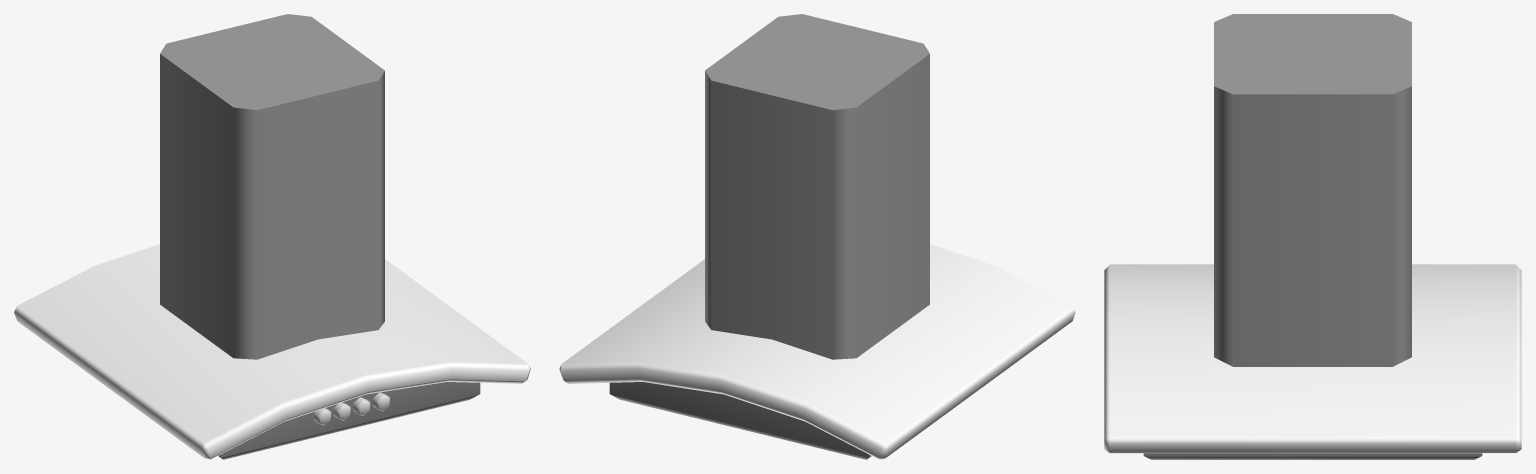
Rendered from kitchen_011.fbx.
The picture shows the model from 3 angles, left to right: view 1: azimuth 30°, elevation 25°; view 2: azimuth 150°, elevation 25°; view 3: azimuth 270°, elevation 25°; orthographic projection. The views are drawn at different scales.
Visible parts, largest first — view 1: kitchen_011; view 2: kitchen_011; view 3: kitchen_011.
Part boxes in pixels (x1=…): kitchen_011: x1=14, y1=14, x2=530, y2=459; kitchen_011: x1=559, y1=14, x2=1075, y2=459; kitchen_011: x1=1104, y1=14, x2=1521, y2=459.
Bounding box in the file's own units: 83.75 × 84.53 × 76.03.
